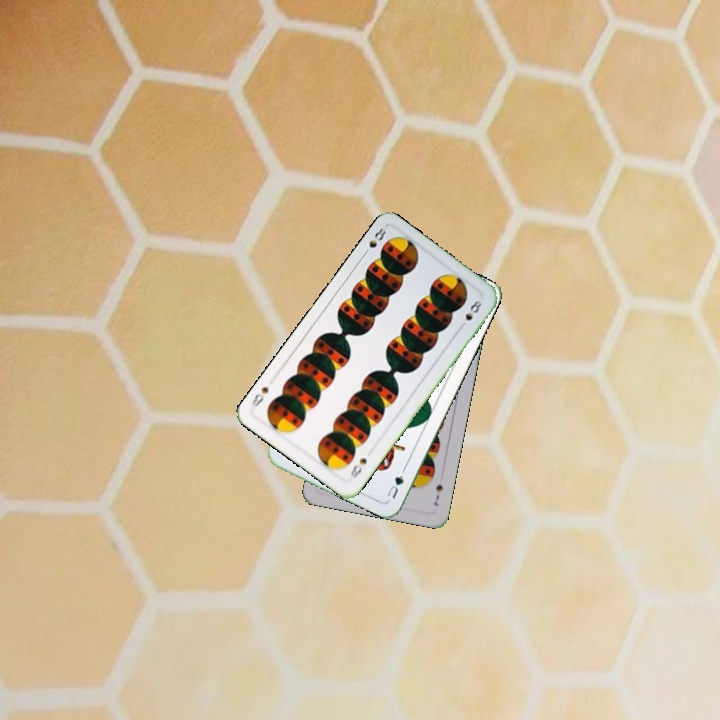GU: (383, 465, 408, 501)
S7: (430, 480, 446, 508)
S8: (359, 224, 389, 259), (346, 454, 370, 481)
